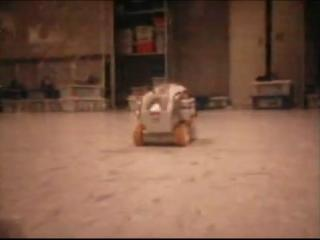cozmo: (130, 81, 198, 147)
